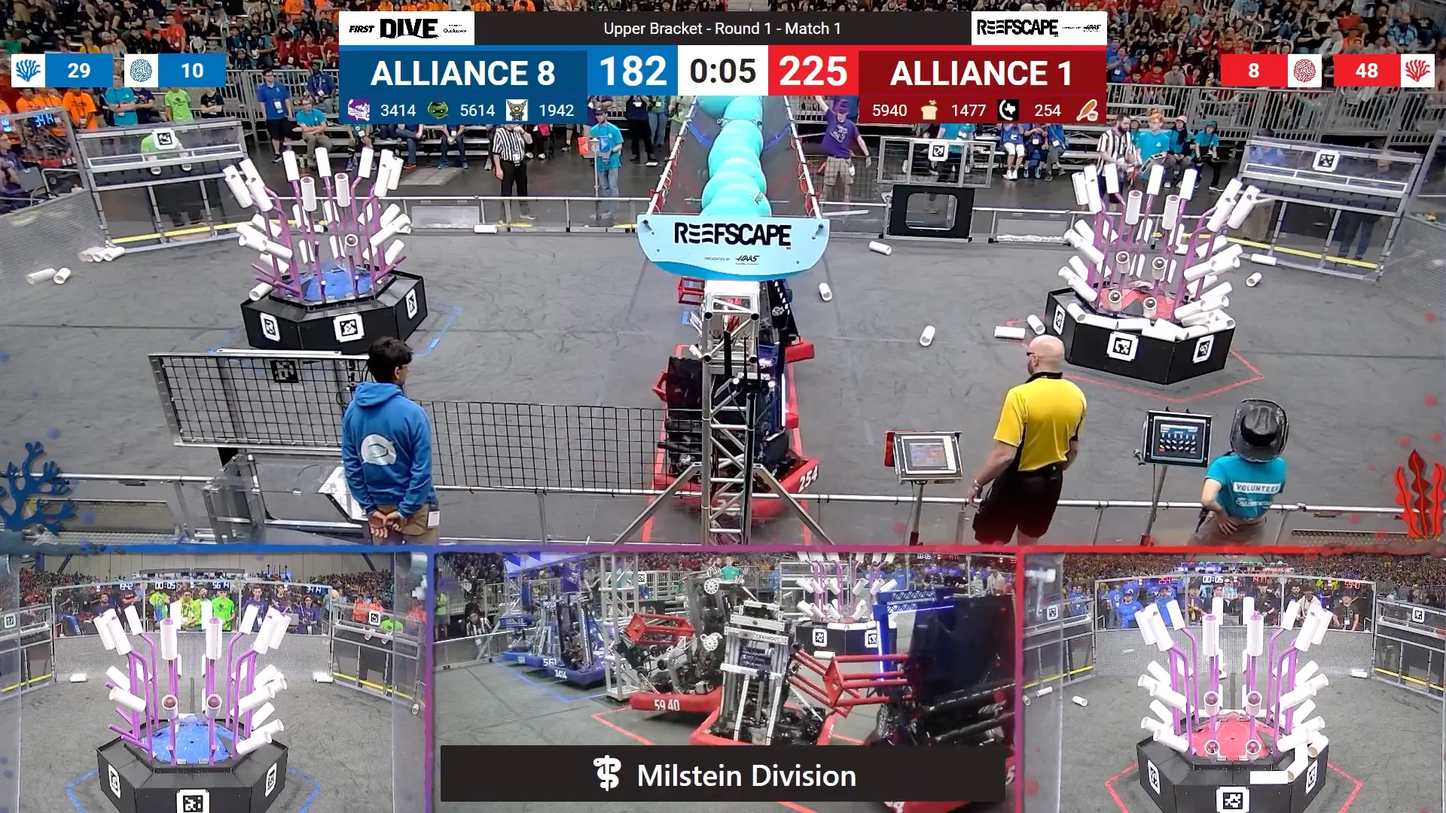bumpers: (641, 444, 820, 525), (629, 677, 726, 715), (522, 657, 626, 687), (773, 334, 823, 372), (505, 653, 558, 669)
